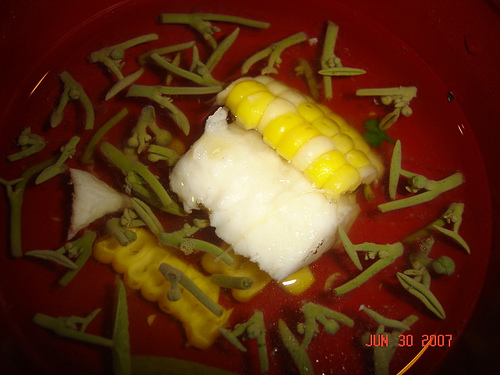corn: (217, 73, 384, 195)
